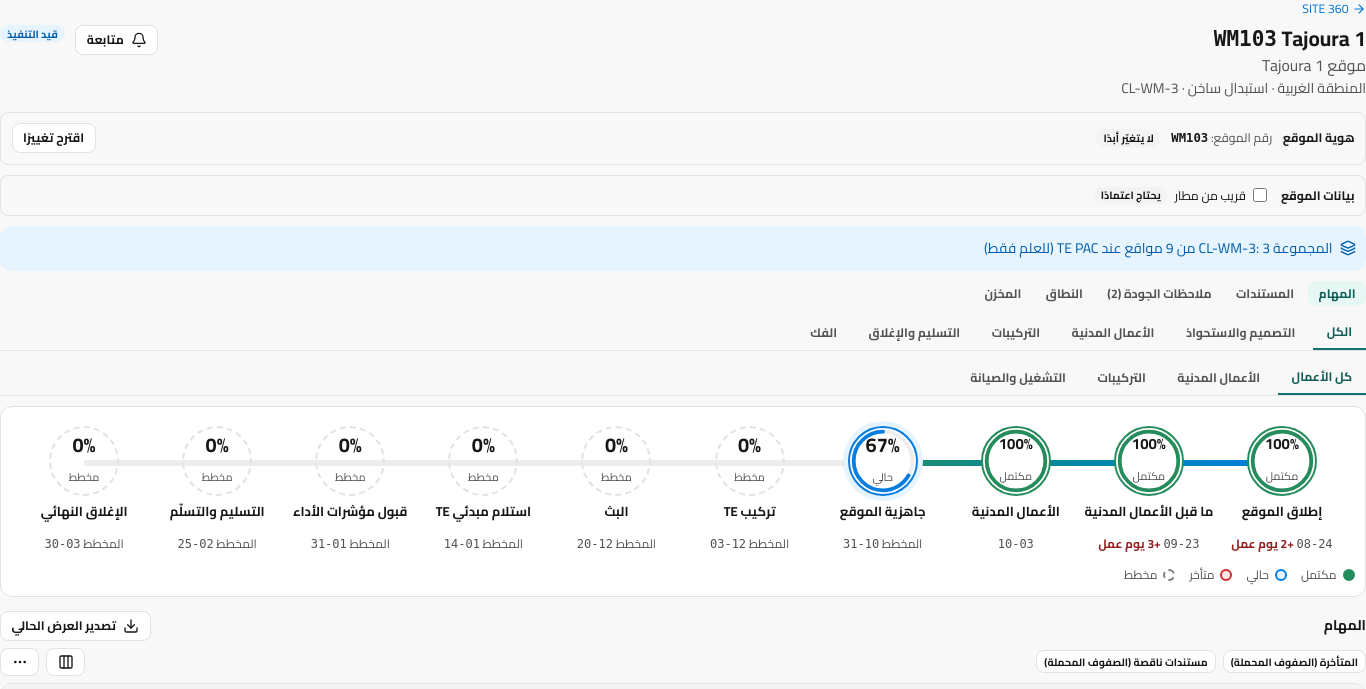
Test: Q473: Propose a change on the site page › is in Arabic in the Arabic interface, with the name field right to left
Expected: the element with test id "site-identity" shows "هوية الموقع", [1283, 126, 1354, 149]
Expected: the text with test id "site-identity-immutable" reads "لا يتغيّر أبدًا", [1104, 128, 1154, 148]
Click the button with test id "site-identity-open".
click(54, 138)  # box [12, 123, 96, 153]
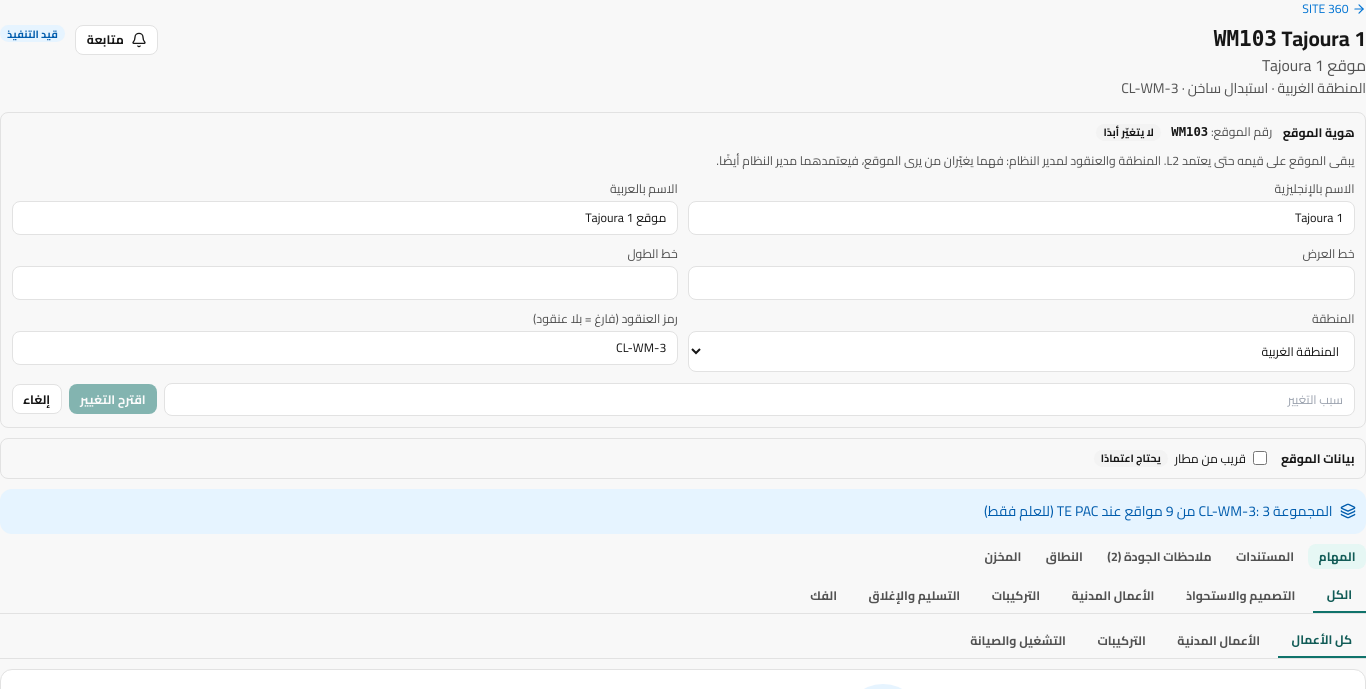
Now the element with test id "site-identity-form" shows "الاسم بالعربية", box [610, 177, 678, 200]
Now the element with test id "site-identity-form" shows "المنطقة", box [1312, 307, 1354, 330]
Now the button with test id "site-identity-send" reads "اقترح التغيير", box [69, 384, 157, 414]
